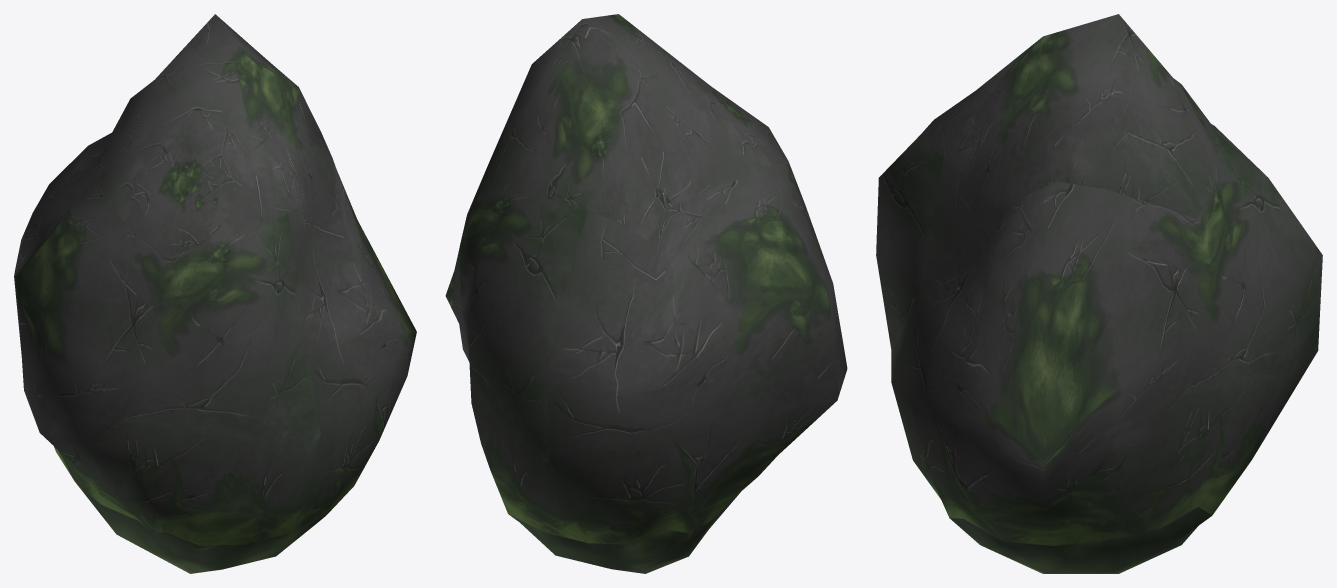
Rendered from forest_rock_3.fbx.
3 views of the same model, side by side, from view 1: azimuth 30°, elevation 25°; view 2: azimuth 150°, elevation 25°; view 3: azimuth 270°, elevation 25° (orthographic). The views are drawn at different scales.
Parts seen in each view (by area): view 1: CA_OPE_Props_Floresta; view 2: CA_OPE_Props_Floresta; view 3: CA_OPE_Props_Floresta.
Part boxes in pixels (<box>): CA_OPE_Props_Floresta: <box>14,14,416,573</box>; CA_OPE_Props_Floresta: <box>445,14,847,573</box>; CA_OPE_Props_Floresta: <box>876,14,1322,573</box>.
Bounding box in the file's own units: 18.75 × 24.66 × 17.83.
